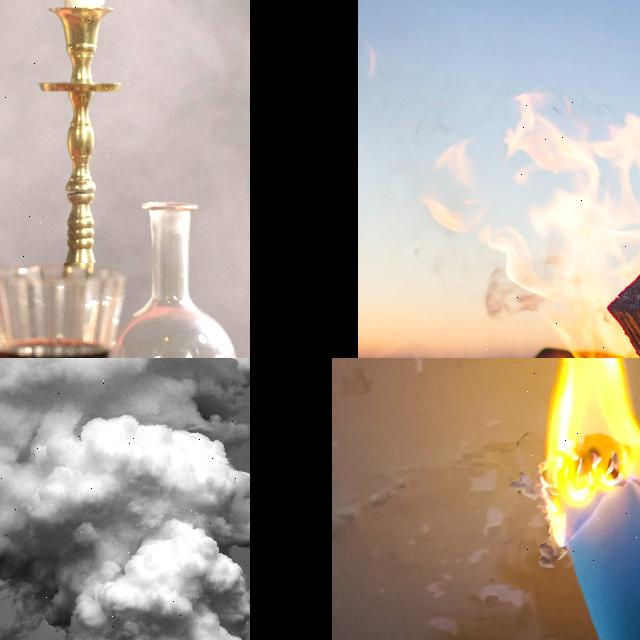fire: (484, 94, 640, 358), (514, 358, 640, 567)
smoke: (0, 358, 250, 640)
